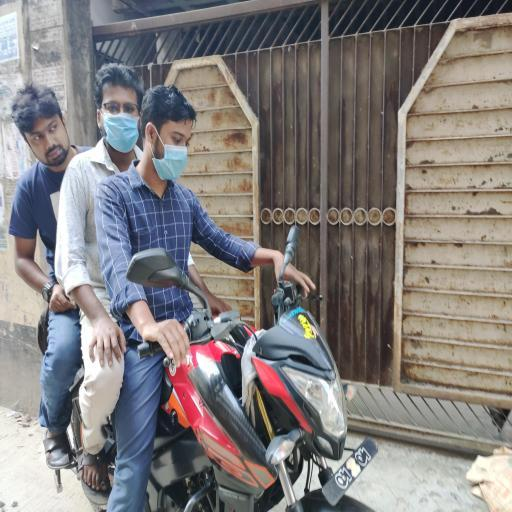no helmet: (137, 82, 212, 193)
triple riding: (7, 59, 420, 512)
